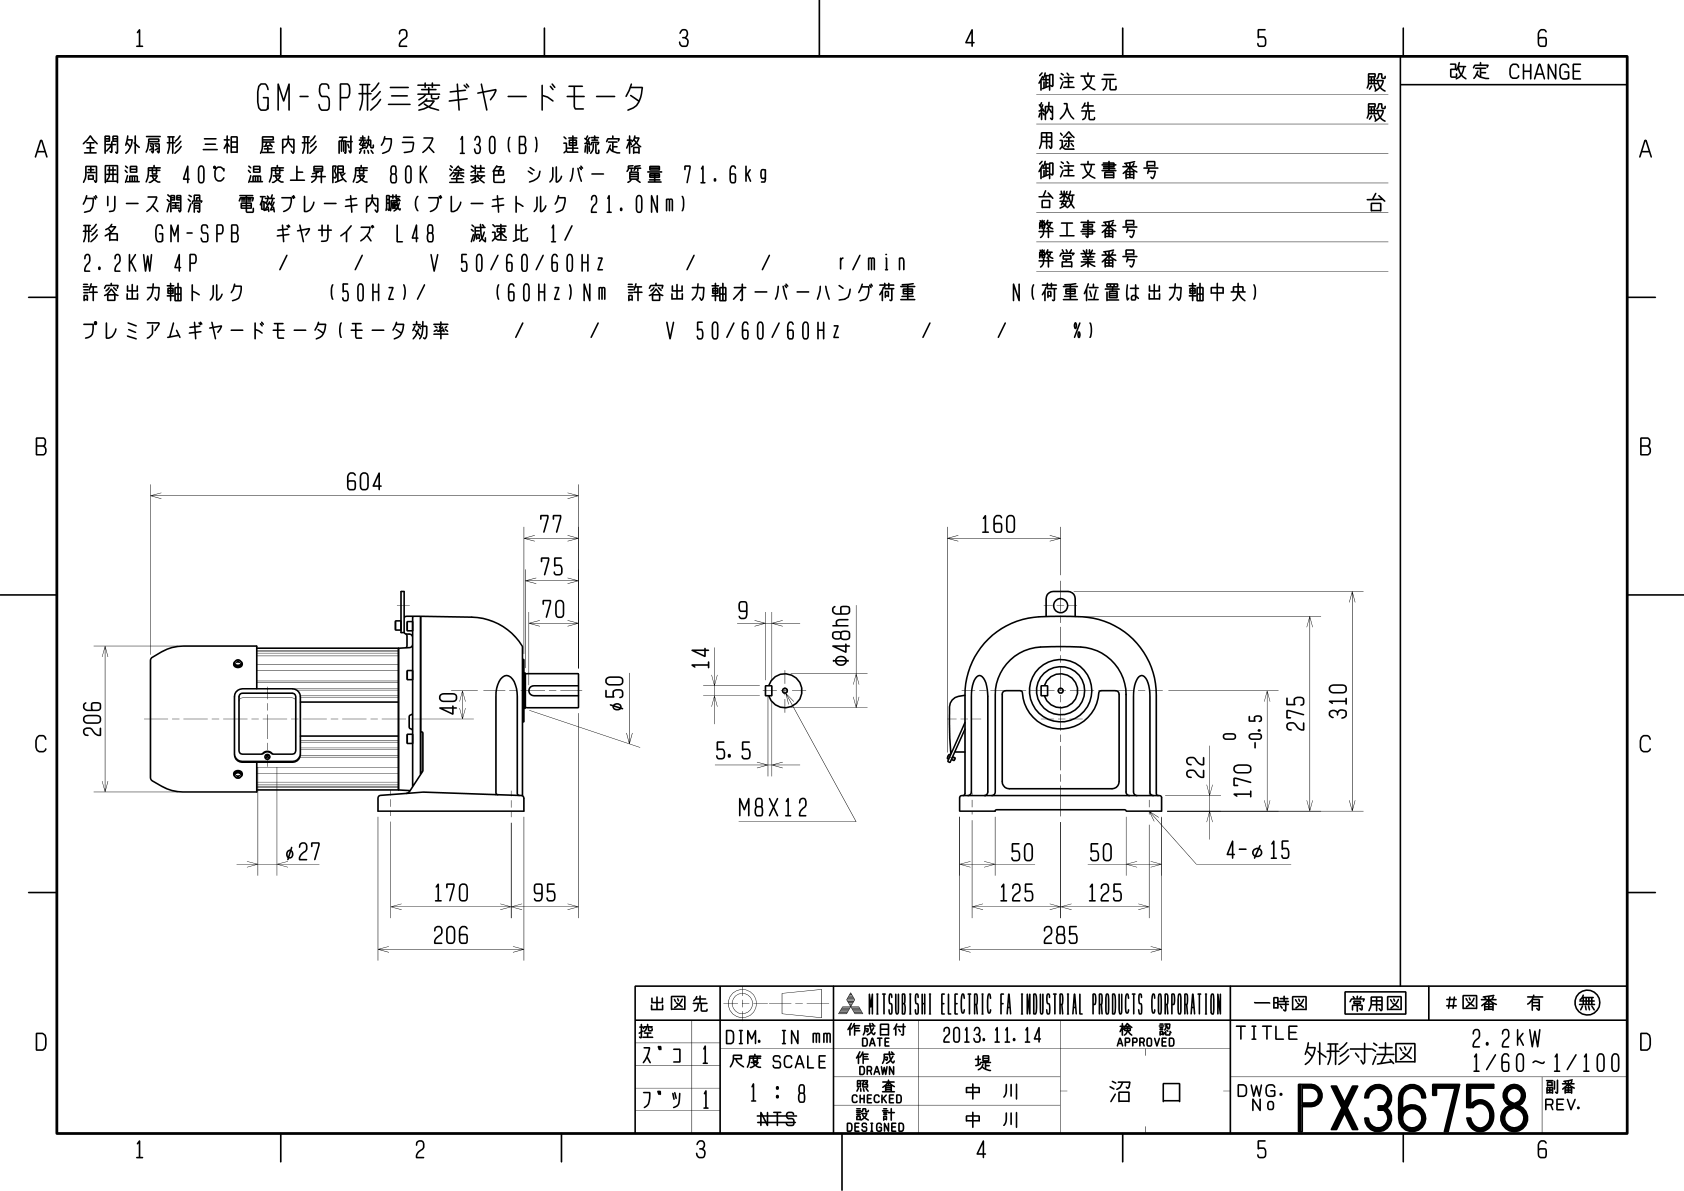GM_SP_屋内_三相_脚: (70, 443, 1377, 969)
